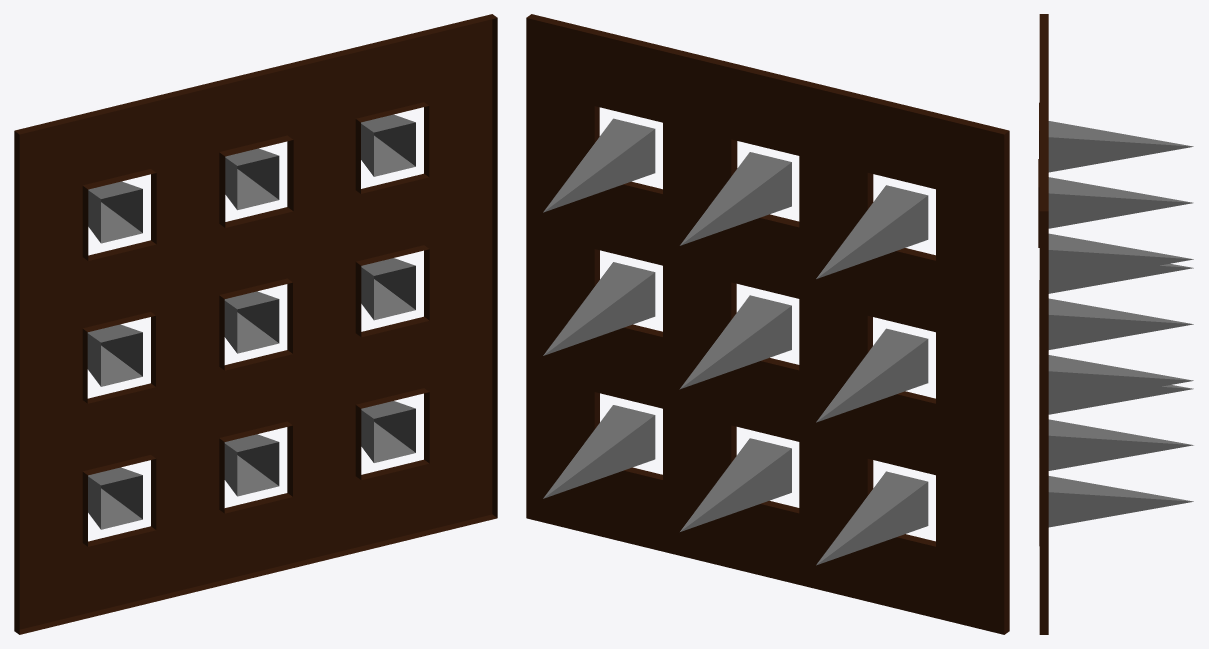
The model's file is floor_trap.FBX.
3 views of the same model, side by side, from view 1: azimuth 30°, elevation 25°; view 2: azimuth 150°, elevation 25°; view 3: azimuth 270°, elevation 25° (orthographic). The views are drawn at different scales.
Visible parts, largest first — view 1: floor, spike001, spike004, spike005, spike008, spike, spike007, spike006, spike002, spike003; view 2: floor, spike, spike001, spike002, spike008, spike007, spike006, spike004, spike003, spike005; view 3: floor, spike003, spike002, spike004, spike005, spike006, spike007, spike008, spike001, spike.
Part boxes in pixels (<box>): floor: <box>14,14,497,634</box>; spike001: <box>87,324,142,386</box>; spike004: <box>224,291,279,353</box>; spike005: <box>224,434,279,496</box>; spike008: <box>361,114,415,176</box>; spike: <box>88,467,142,529</box>; spike007: <box>361,258,415,320</box>; spike006: <box>361,401,415,462</box>; spike002: <box>88,181,142,243</box>; spike003: <box>225,148,279,210</box>; floor: <box>526,14,1009,634</box>; spike: <box>816,471,928,565</box>; spike001: <box>816,328,928,422</box>; spike002: <box>816,185,928,278</box>; spike008: <box>543,118,655,212</box>; spike007: <box>543,262,655,355</box>; spike006: <box>543,405,655,498</box>; spike004: <box>679,295,791,389</box>; spike003: <box>680,152,791,245</box>; spike005: <box>680,438,791,531</box>; floor: <box>1038,14,1048,634</box>; spike003: <box>1048,177,1193,228</box>; spike002: <box>1048,121,1193,172</box>; spike004: <box>1048,298,1193,349</box>; spike005: <box>1048,419,1193,470</box>; spike006: <box>1048,476,1193,527</box>; spike007: <box>1048,355,1193,406</box>; spike008: <box>1048,233,1193,284</box>; spike001: <box>1048,263,1193,293</box>; spike: <box>1048,385,1193,414</box>.
Bounding box in the file's own units: 39.37 × 39.37 × 13.15.
